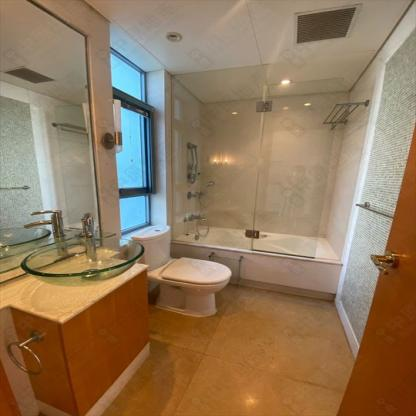Bathtub: (171, 224, 344, 295)
Faucet: (33, 208, 96, 236)
Toilet: (126, 223, 231, 317)
Toilet Sink: (20, 237, 144, 287)
Water Cubicle: (167, 63, 270, 251)
